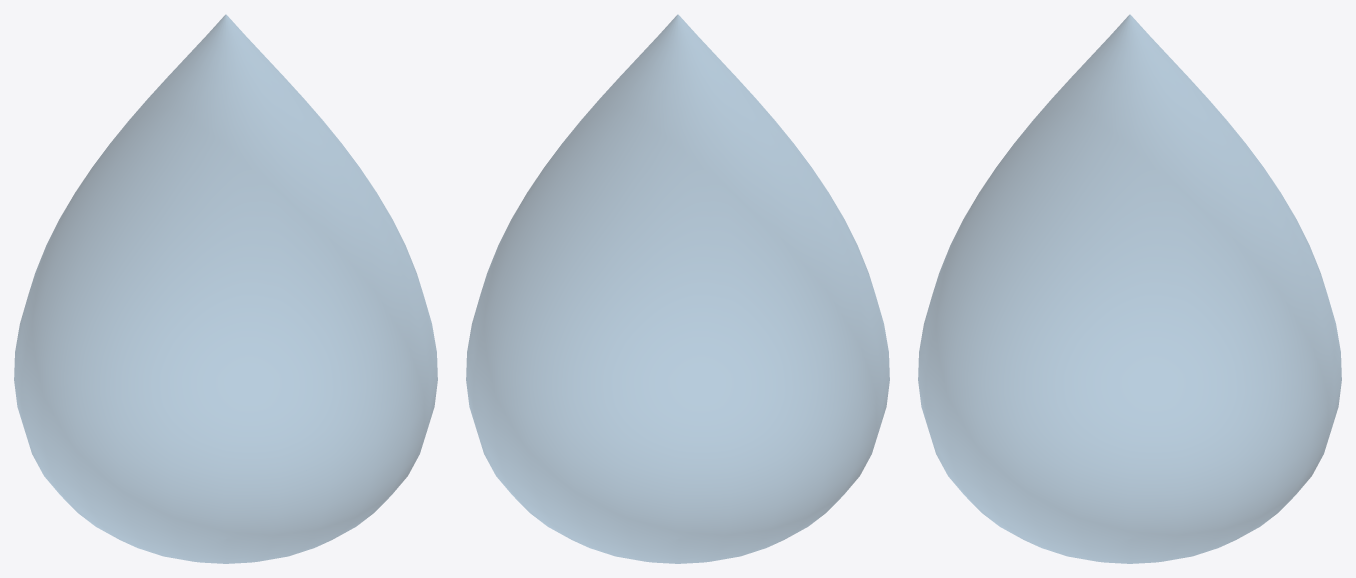
The model's file is water-droplet.glb.
The picture shows the model from 3 angles, left to right: view 1: azimuth 30°, elevation 25°; view 2: azimuth 150°, elevation 25°; view 3: azimuth 270°, elevation 25°; orthographic projection.
Visible parts, largest first — view 1: stylized_drop; view 2: stylized_drop; view 3: stylized_drop.
Part boxes in pixels (x1,y1,x2,y2): stylized_drop: (14, 14, 437, 563); stylized_drop: (466, 14, 889, 563); stylized_drop: (918, 14, 1341, 563).
Bounding box in the file's own units: 0.9873 × 1.35 × 0.9873.
